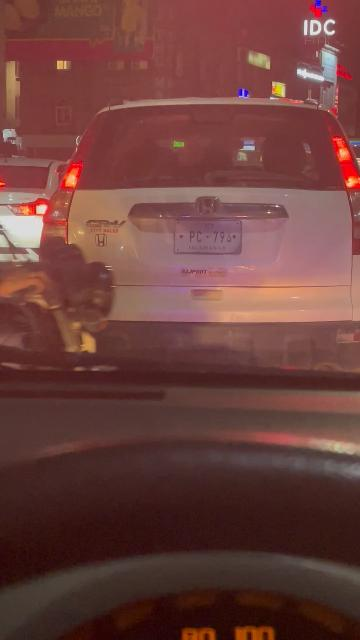plate: (174, 219, 244, 255)
